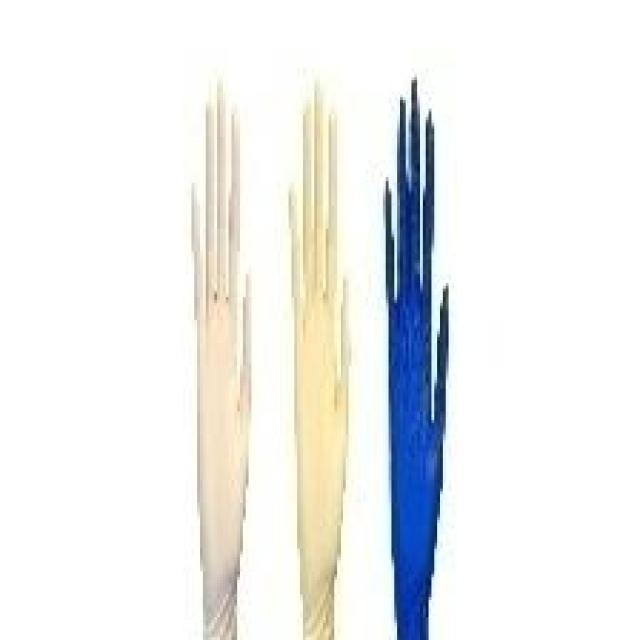Glove: (378, 57, 481, 640), (167, 91, 257, 628), (280, 89, 354, 640)
